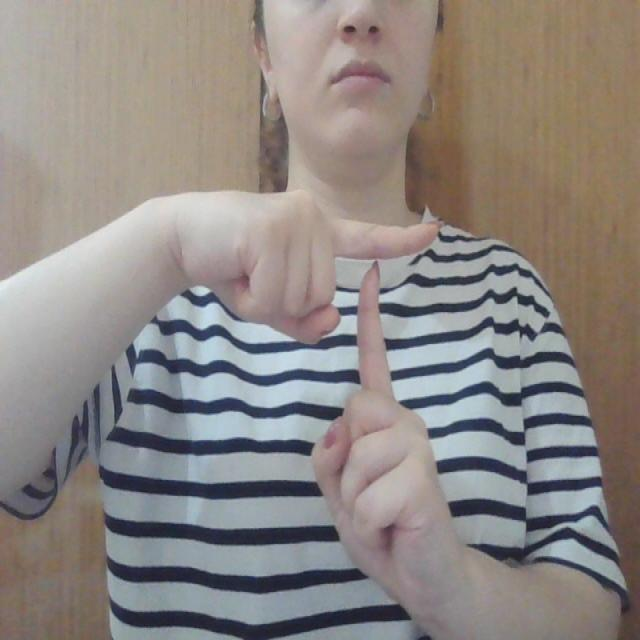Tesekkurler: (312, 201, 442, 448)
